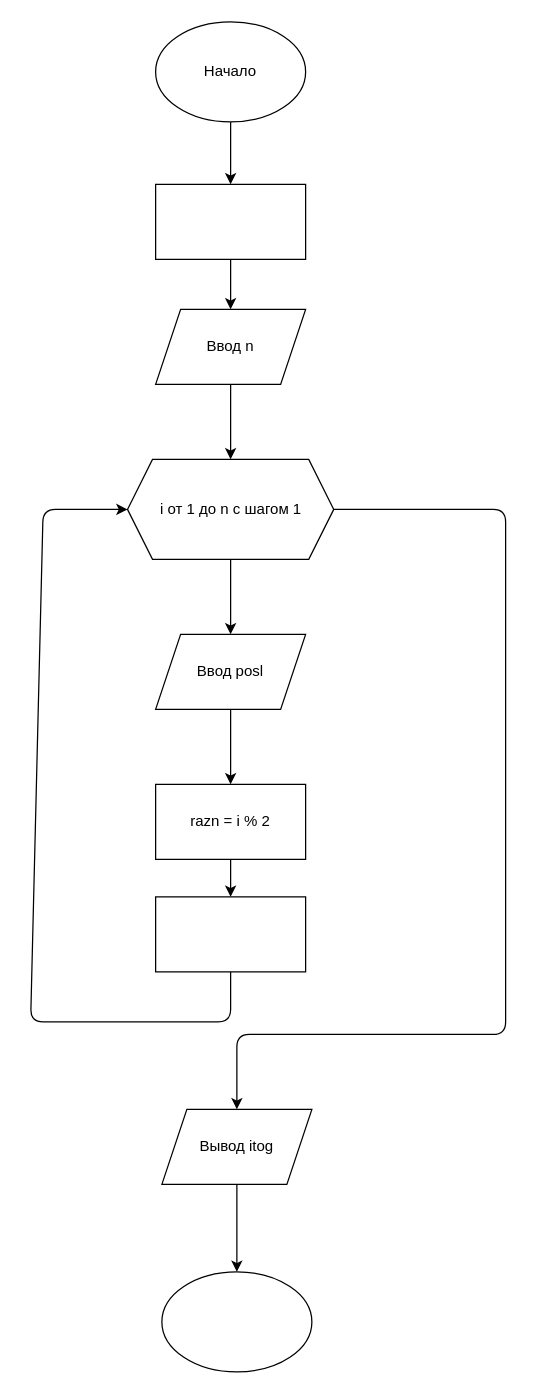
Image size: 538x1394. Some labels were removed from this diagram. The shapes that lost their labels are listed below. From the top down, each one's centre as x and y in pixels, then its label:
[230,221]: posl = 0; n = 0; razn = 0; i = 0;
[230,934]: itog += razn * posl*posl
[236,1321]: Конец
